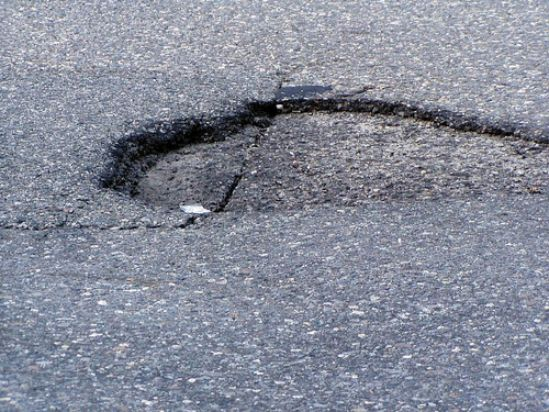pothole: (91, 92, 549, 226)
